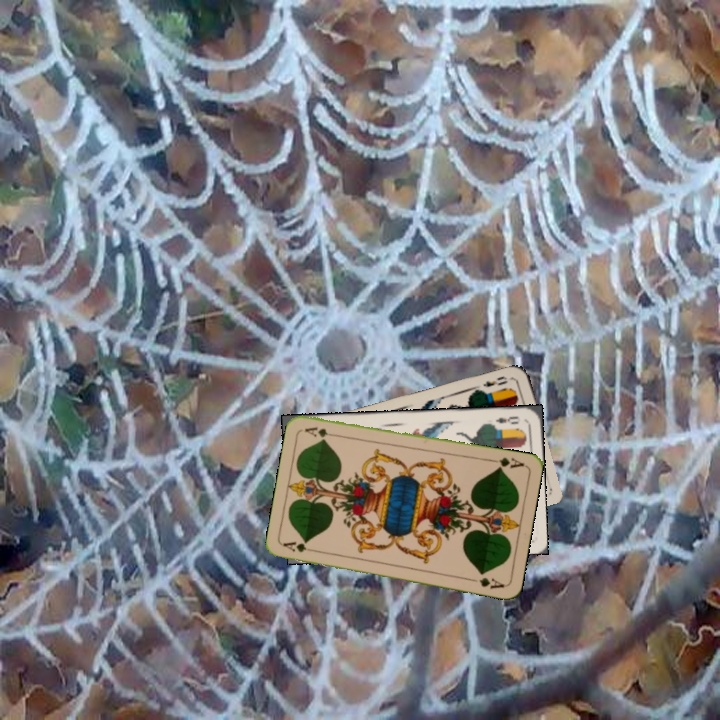EO: (486, 412, 521, 430), (479, 372, 510, 390)
GA: (486, 453, 527, 472), (280, 538, 320, 555)
